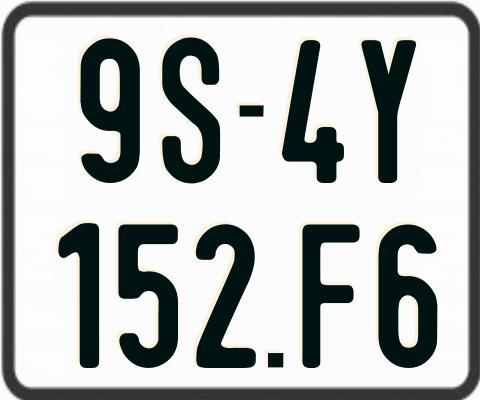1: (58, 221, 105, 369)
2: (195, 222, 255, 370)
4: (281, 38, 346, 183)
5: (116, 224, 177, 373)
6: (378, 223, 440, 373)
9: (77, 38, 139, 189)
F: (301, 222, 364, 368)
S: (162, 36, 226, 188)
Y: (358, 40, 415, 188)
